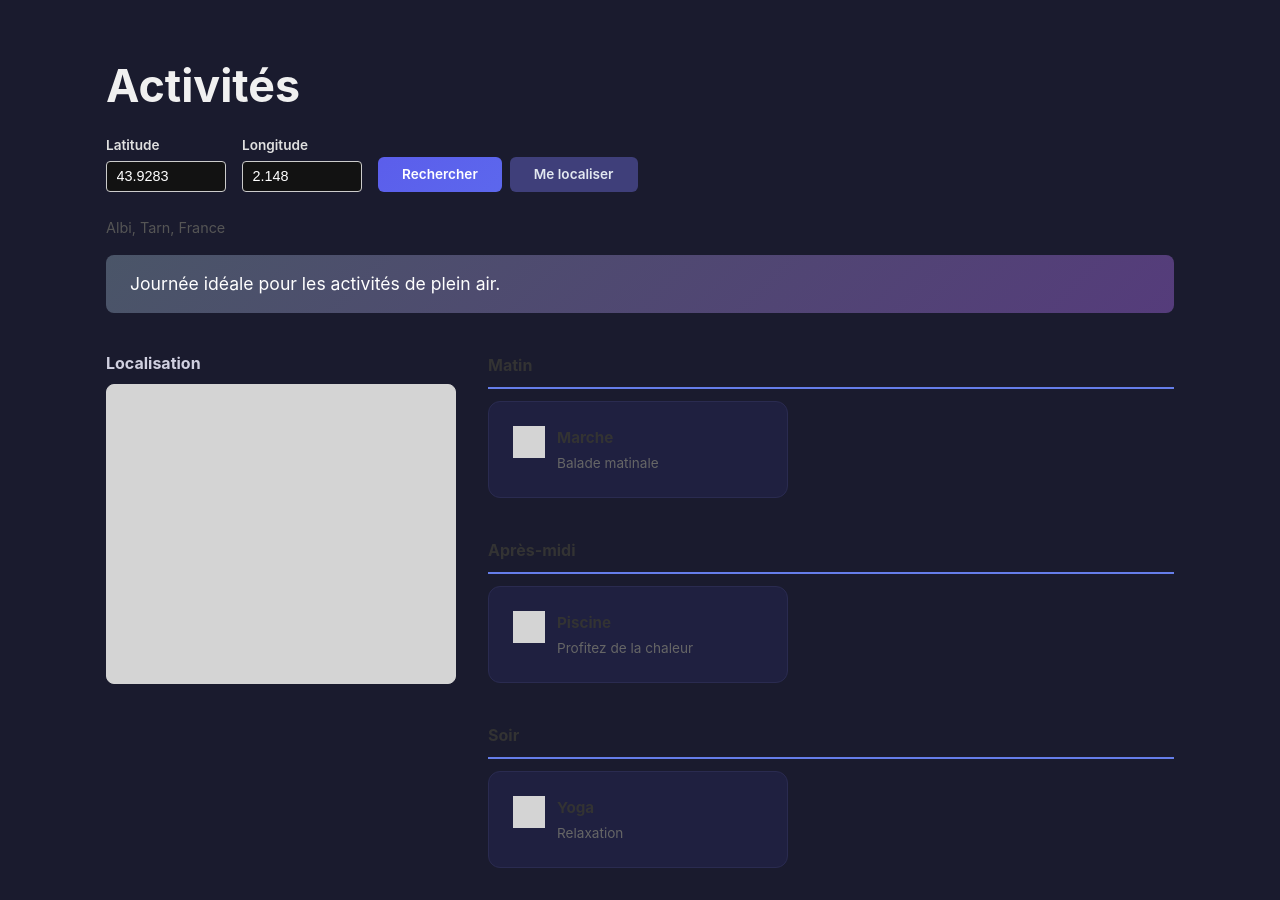
ActivitiesPage › allows changing latitude value
Replace the text in the number field labelled "Latitude" with "45.0": (166, 176) [106,161,226,192]
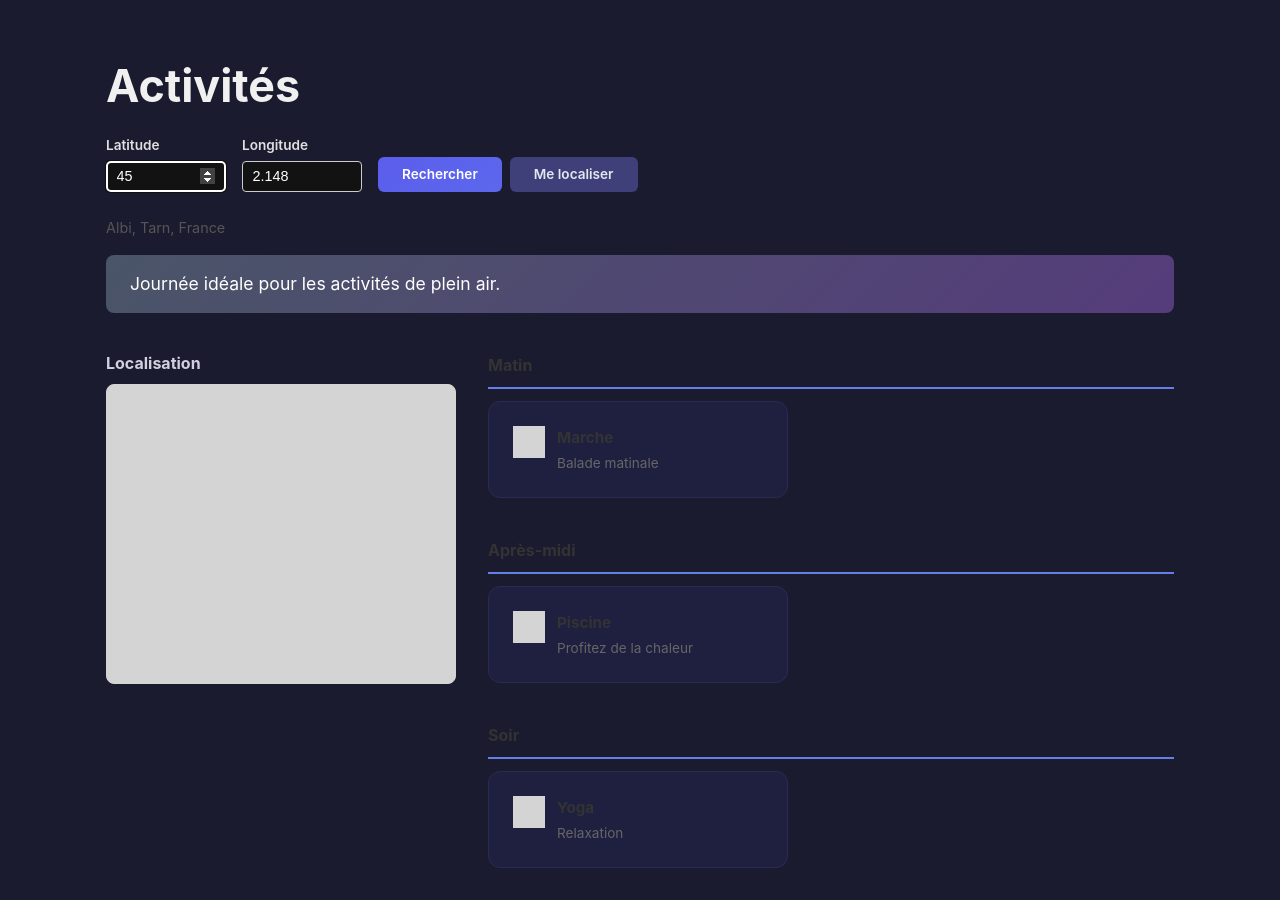
Result: the number field labelled "Latitude" holds "45" at [106,161,226,192]
